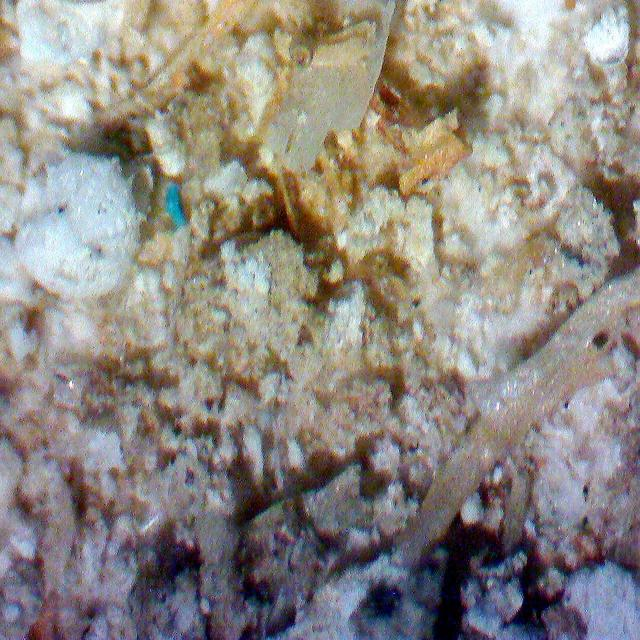microplastic: (161, 178, 188, 231)
